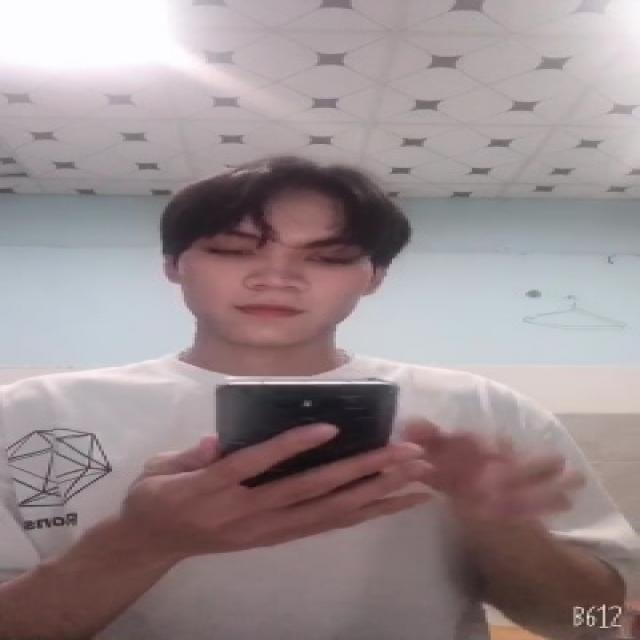Phone: (210, 371, 402, 491)
